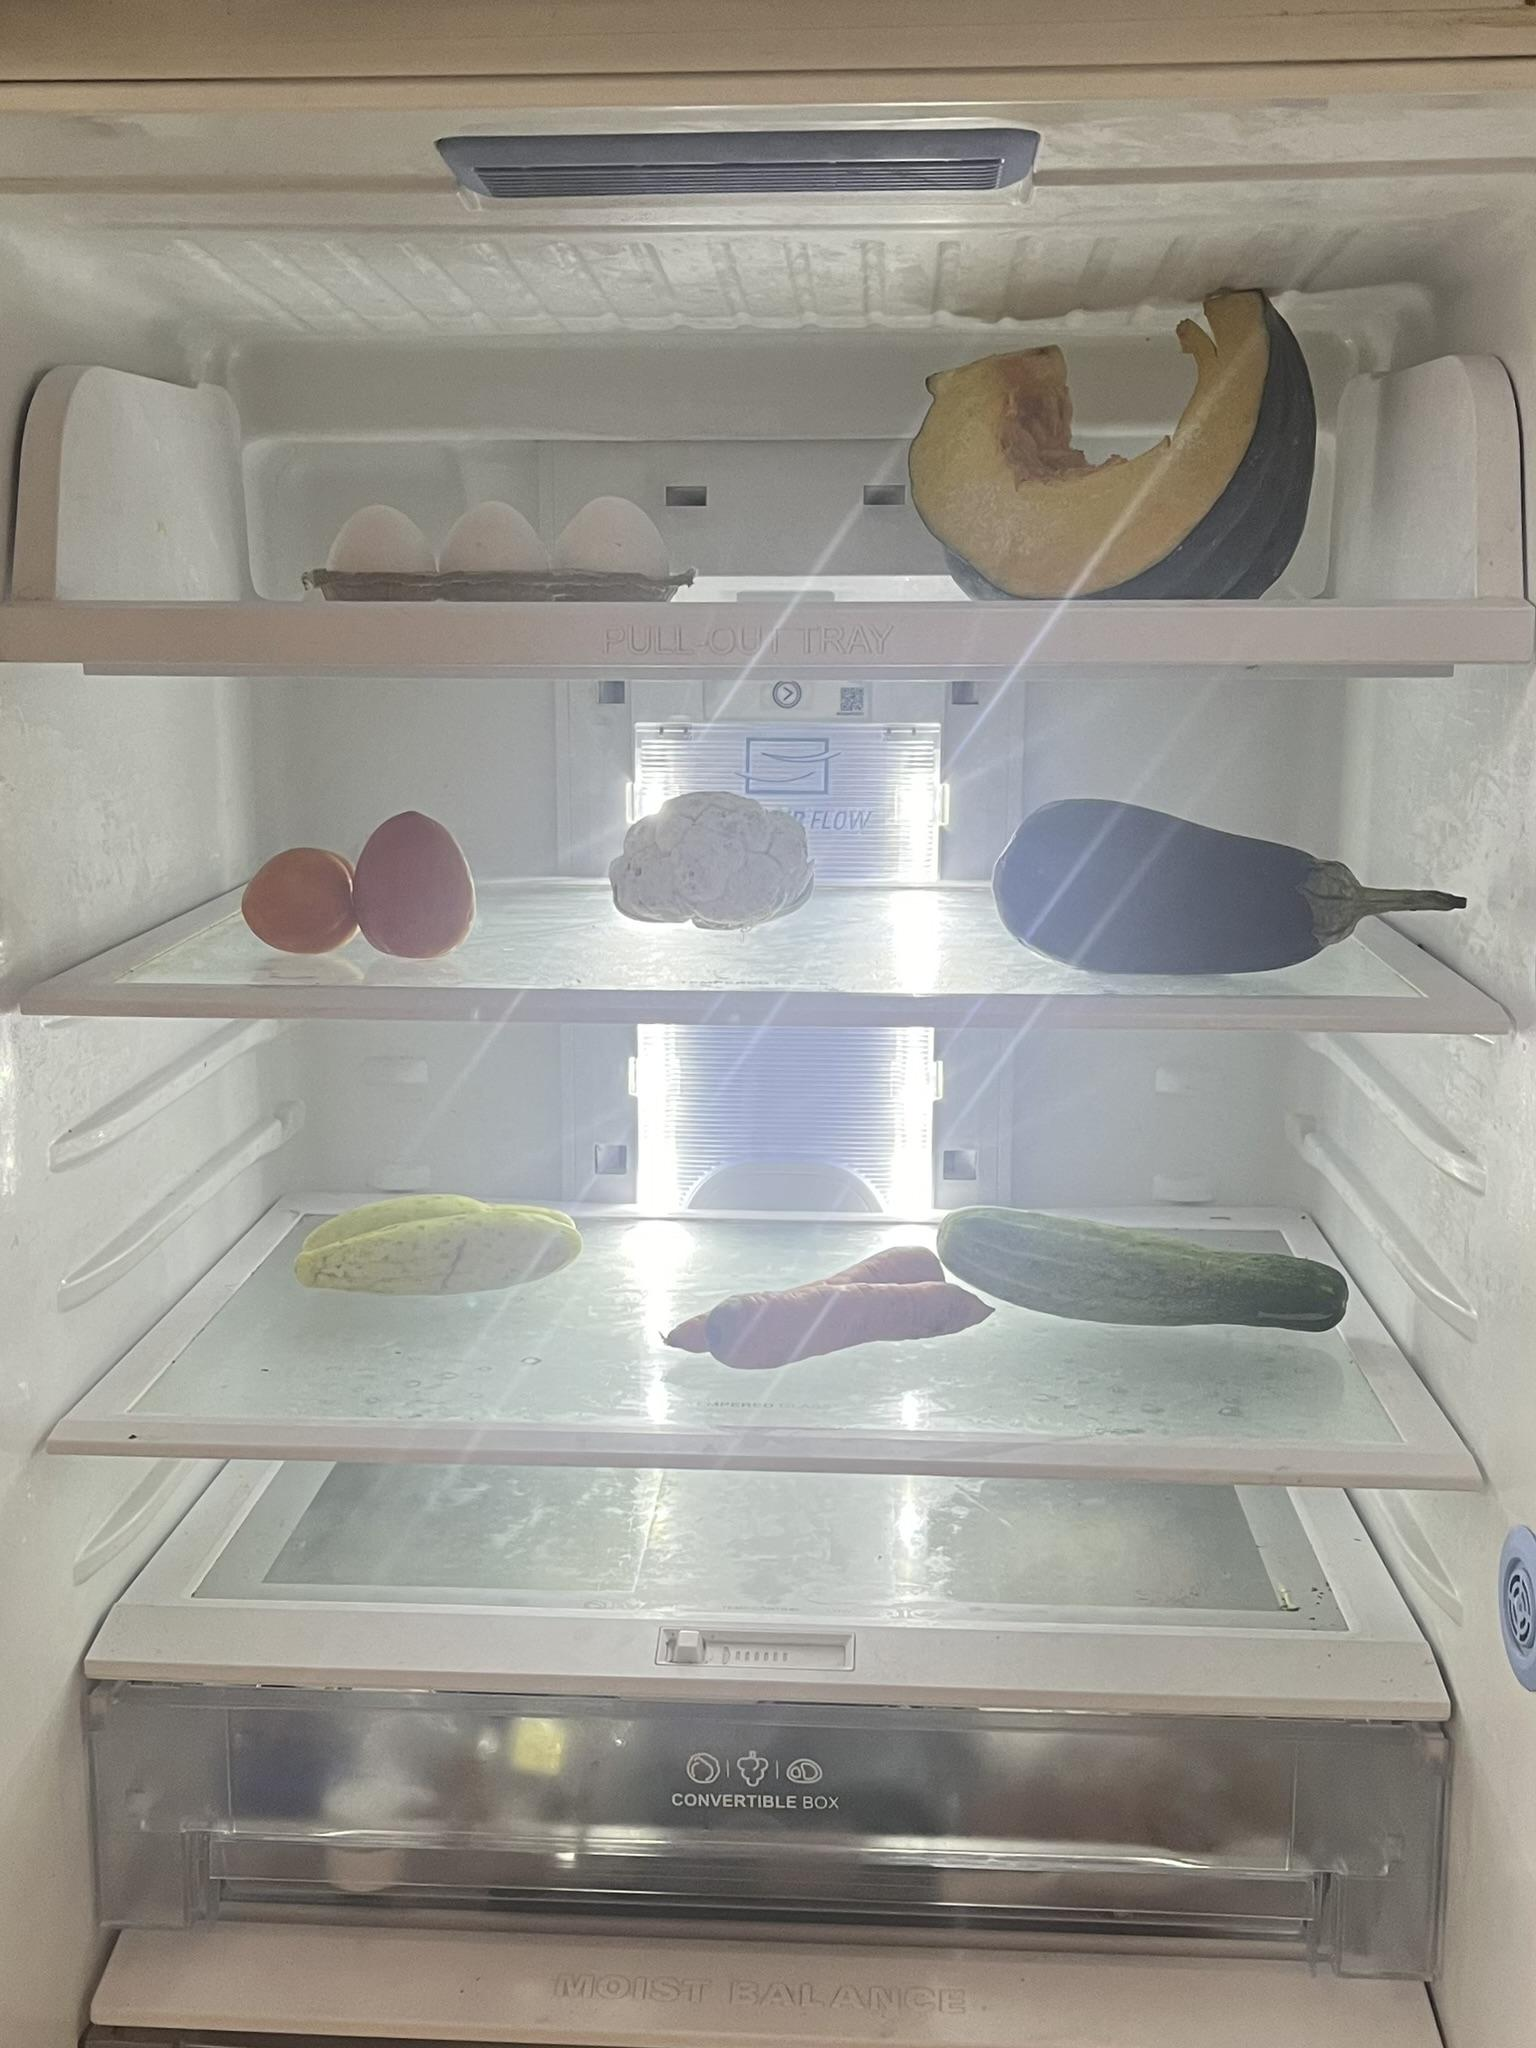bringal: (987, 790, 1476, 977)
carrots: (650, 1243, 994, 1359)
cauliflower: (607, 790, 813, 924)
cucumber: (941, 1197, 1347, 1334), (290, 1190, 603, 1287)
egg: (319, 497, 684, 600)
pumpkin: (913, 287, 1323, 597)
tomato: (240, 810, 476, 953)
